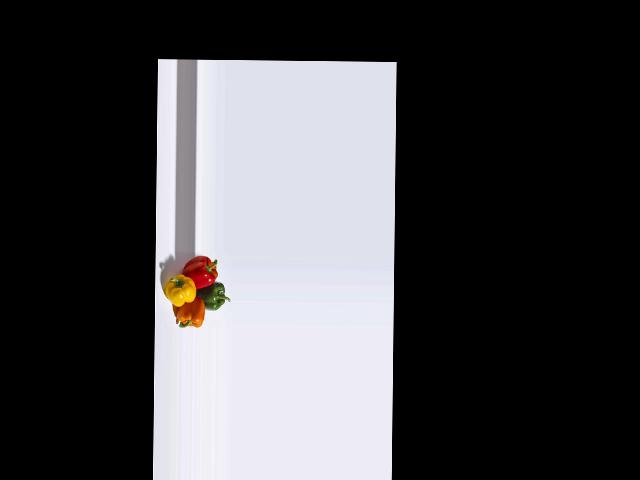bell_pepper: (182, 254, 221, 288)
